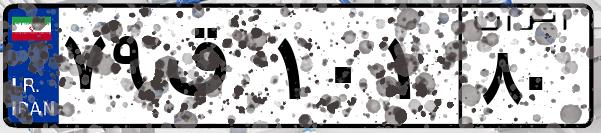0: (330, 28, 385, 110), (525, 38, 570, 115)
1: (270, 28, 330, 110), (385, 28, 445, 110)
7: (57, 26, 110, 100)
8: (475, 38, 525, 113)
9: (110, 28, 158, 98)
ق: (158, 20, 270, 120)
